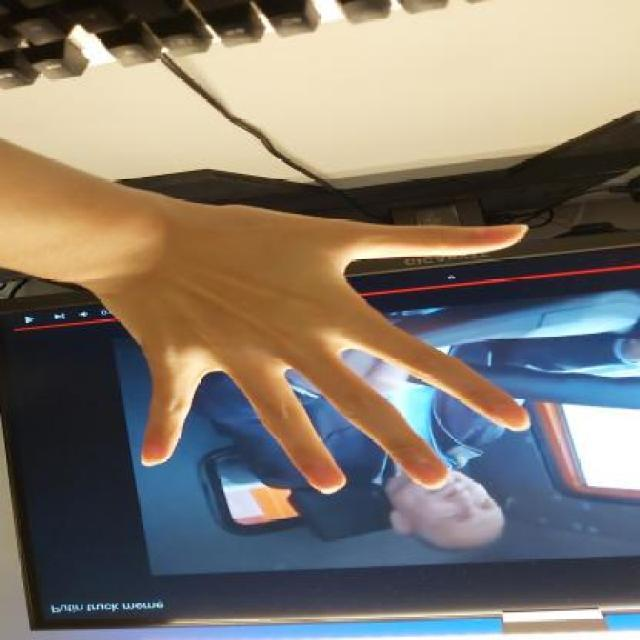bare_hand: (66, 176, 548, 502)
